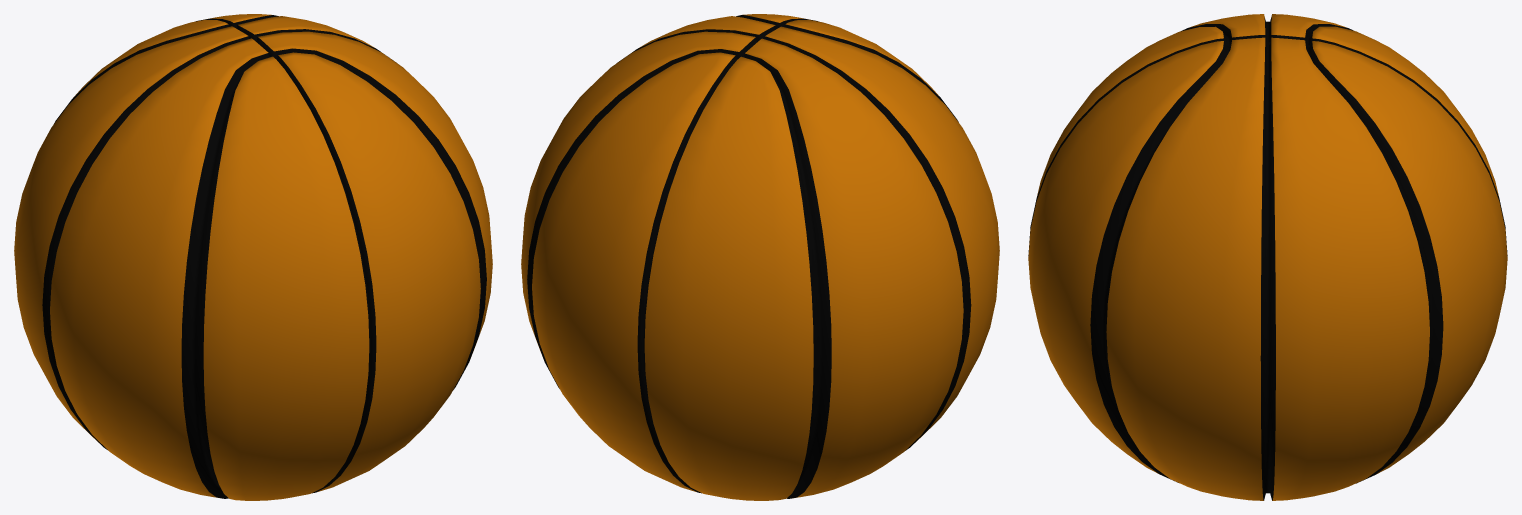
File: BasketballIB.fbx
3 views of the same model, side by side, from view 1: azimuth 30°, elevation 25°; view 2: azimuth 150°, elevation 25°; view 3: azimuth 270°, elevation 25° (orthographic).
Parts seen in each view (by area): view 1: pSphere3; view 2: pSphere3; view 3: pSphere3.
Boxes of the visible parts, x1,y1,x2,y2 form: pSphere3: [14, 14, 492, 500]; pSphere3: [521, 14, 999, 500]; pSphere3: [1028, 14, 1507, 500].
Size of the model in its own units: 1.94 by 1.98 by 1.94.
